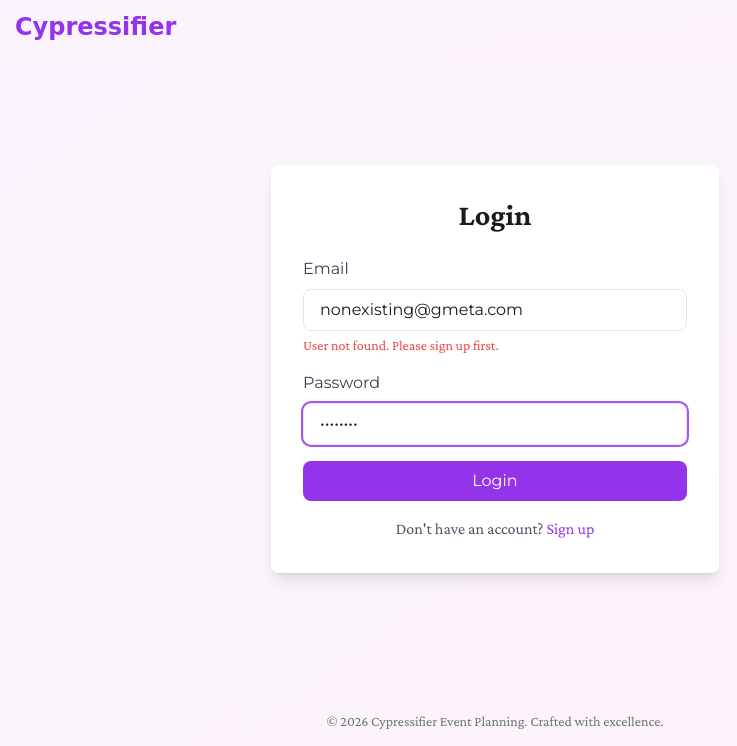
Test: Admin Experience Flow › Admin Authentication › should error with no password
Clear the field with test id "login-email-input" at (495, 310), box [303, 289, 687, 331]
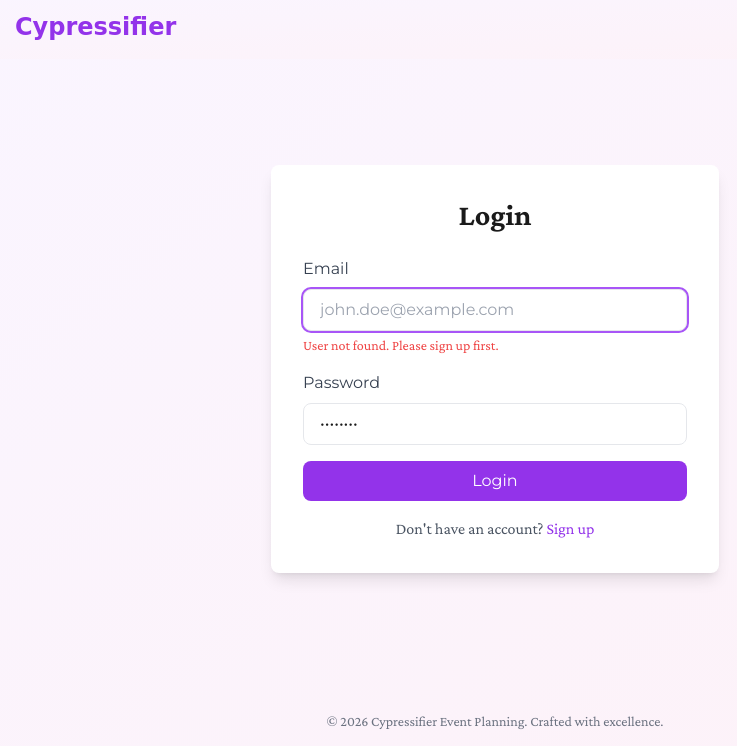
Clear the password field with test id "login-password-input" at (495, 424), box [303, 403, 687, 445]
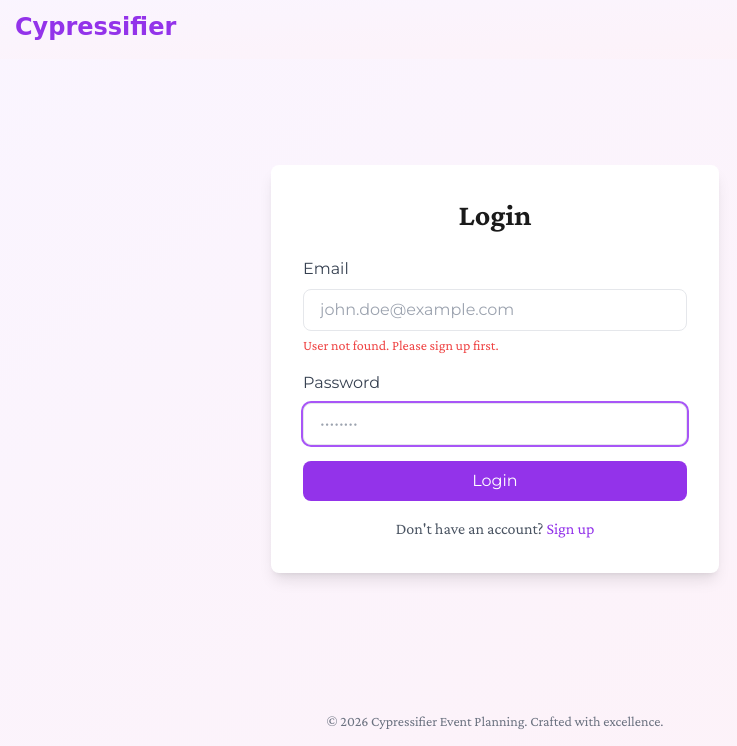
Type "admin@cypressifier.com" into the field with test id "login-email-input" at (495, 310), box [303, 289, 687, 331]
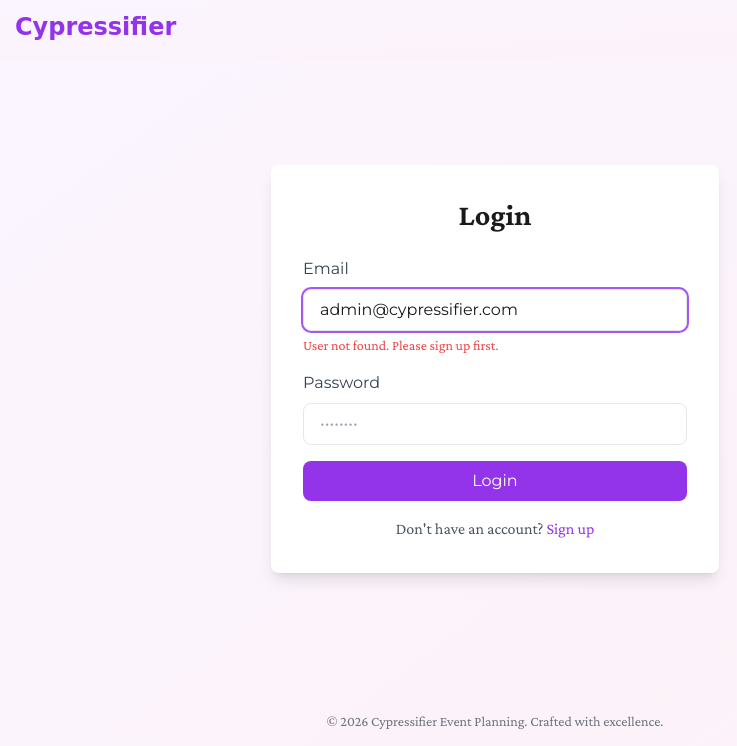
Submit the form, box [303, 257, 687, 501]
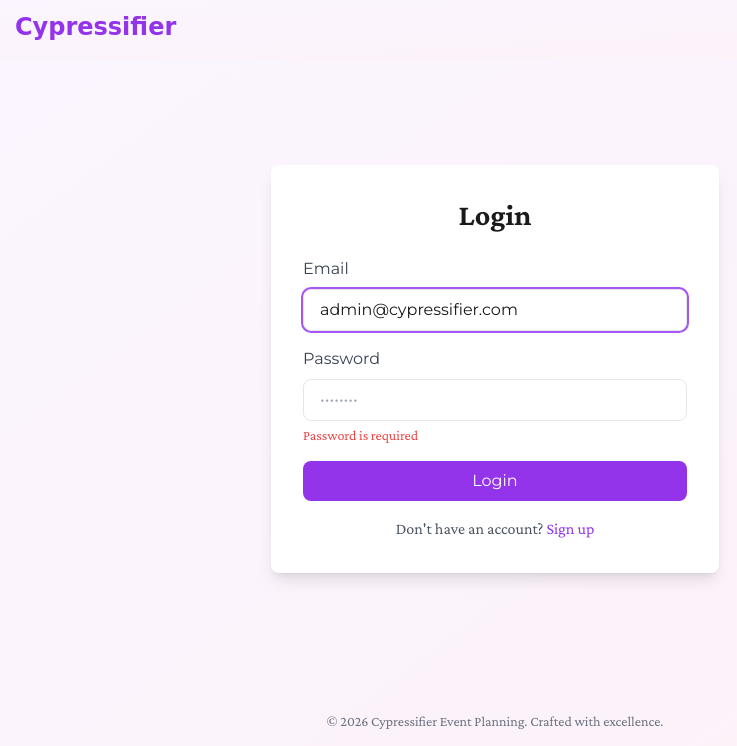
expect the text "Password is required" is shown: met, box [303, 427, 418, 443]
